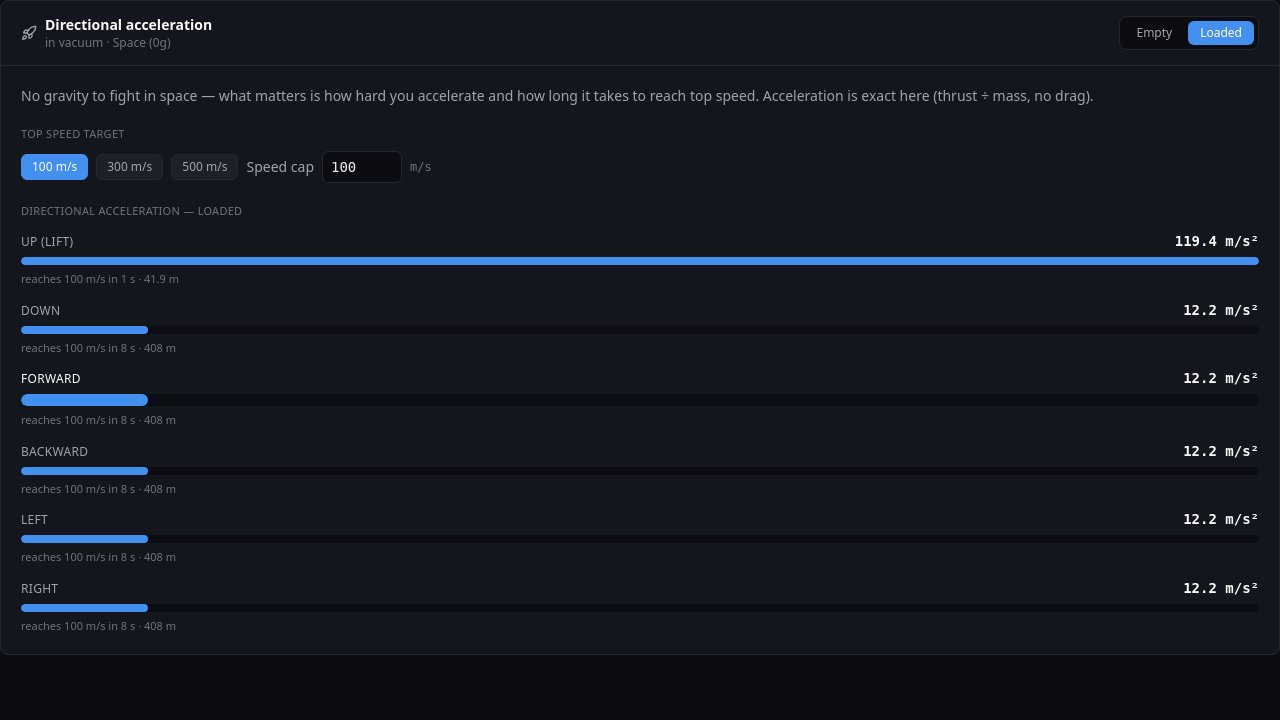
Test case: TwrPanel rendering › rescales the time-to-top-speed when the speed cap is raised
This screenshot has width=1280, height=720.
Click the button "500 m/s".
click(205, 166)  # box 171,154 -> 238,180
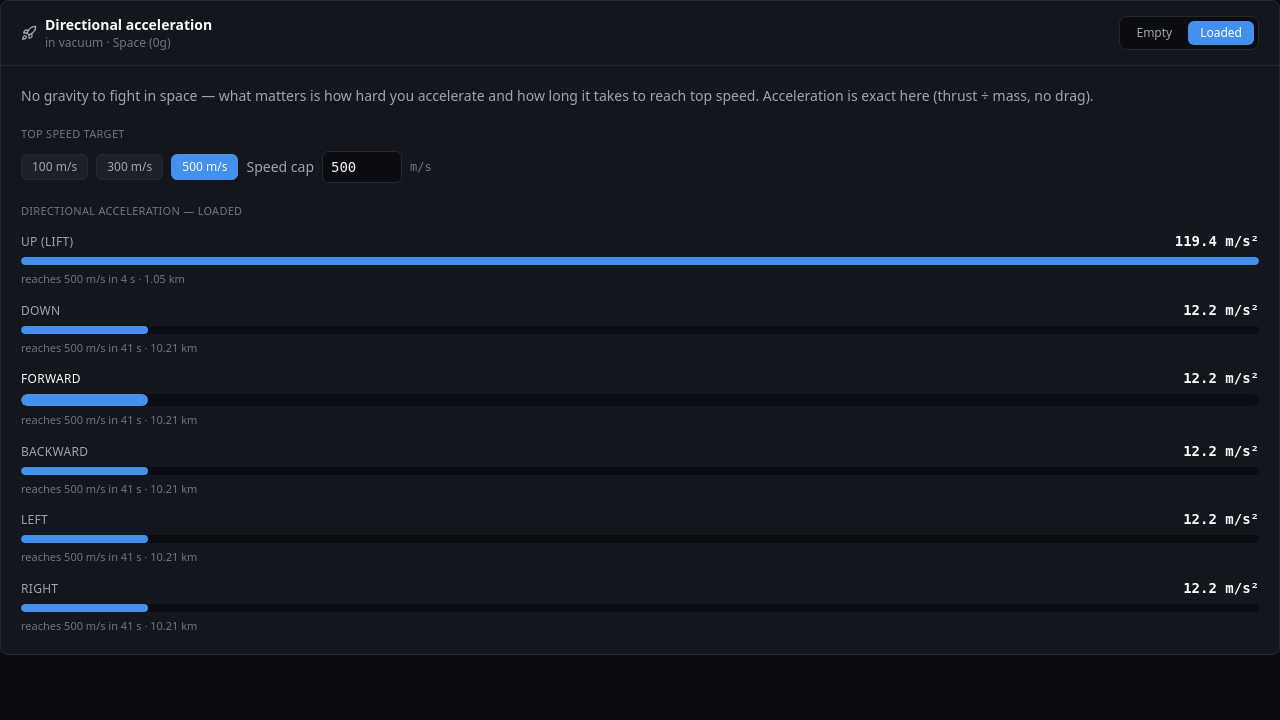
Expected: the text "reaches 500 m/s in 4 s · 1.05 km" is shown, 21,271 -> 185,286
